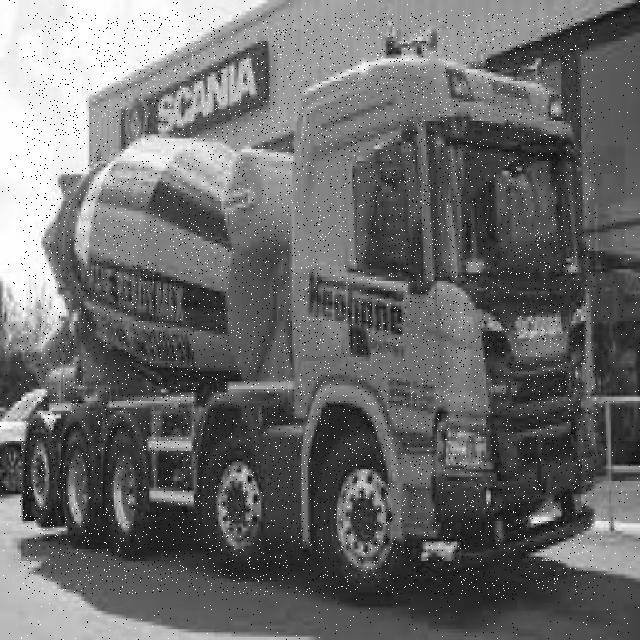Concrete Mixer: (20, 13, 596, 595)
